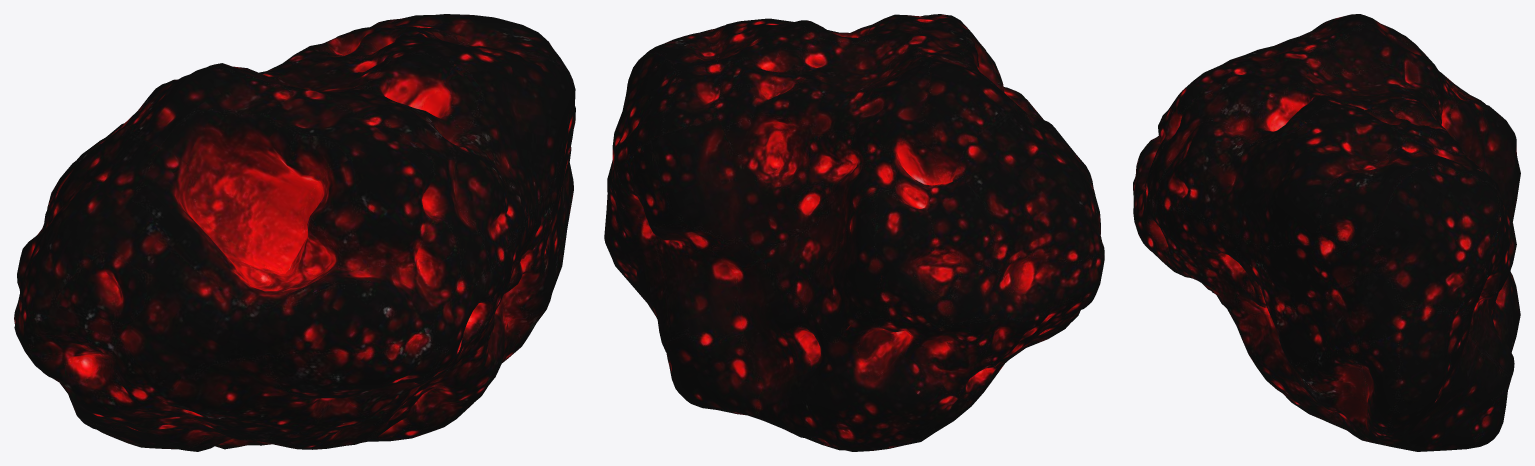
The model's file is meteorite.glb.
3 renders of one model, left to right at view 1: azimuth 30°, elevation 25°; view 2: azimuth 150°, elevation 25°; view 3: azimuth 270°, elevation 25°, orthographic. The views are drawn at different scales.
Visible parts, largest first — view 1: Object_2; view 2: Object_2; view 3: Object_2.
Part boxes in pixels (bbox=[...]): Object_2: bbox=[14, 14, 575, 451]; Object_2: bbox=[604, 14, 1104, 451]; Object_2: bbox=[1133, 14, 1520, 451].
Bounding box in the file's own units: 16.92 × 12.18 × 12.23.
Materials: 1 (1 with a texture image).
